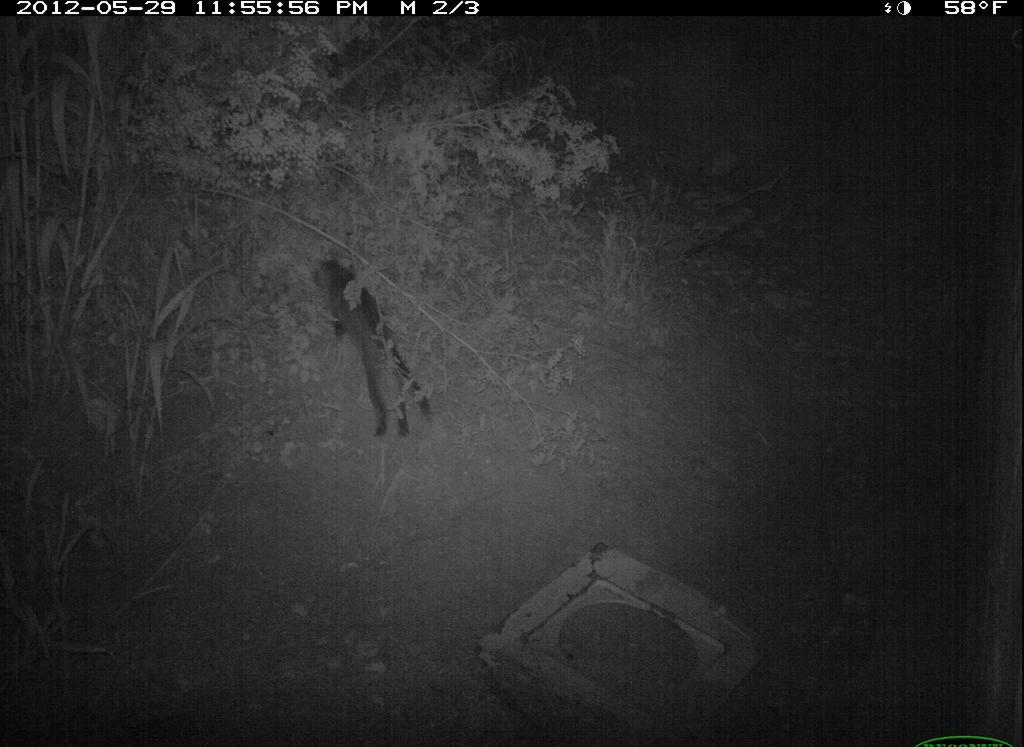cat: (289, 242, 446, 461)
